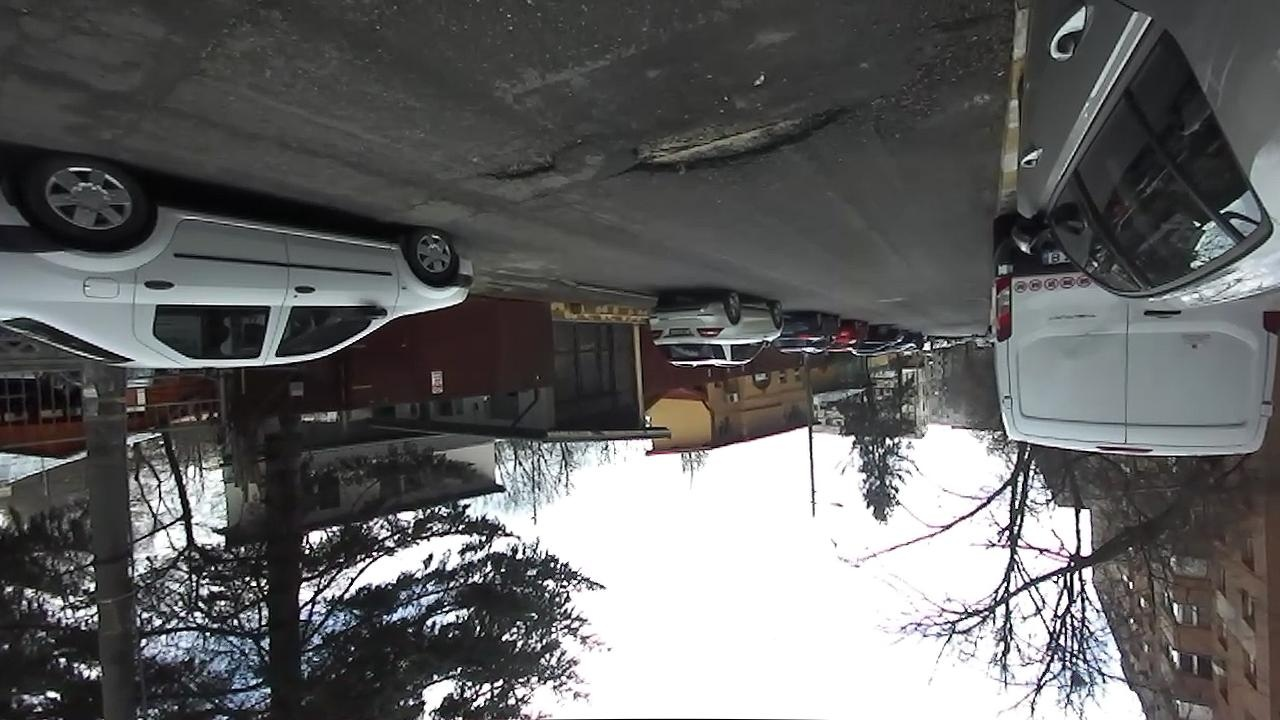pothole: (618, 92, 859, 179), (479, 146, 568, 185)
